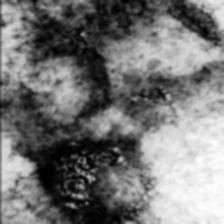Potentially Malignant Skin Tumors: (38, 138, 148, 224)
